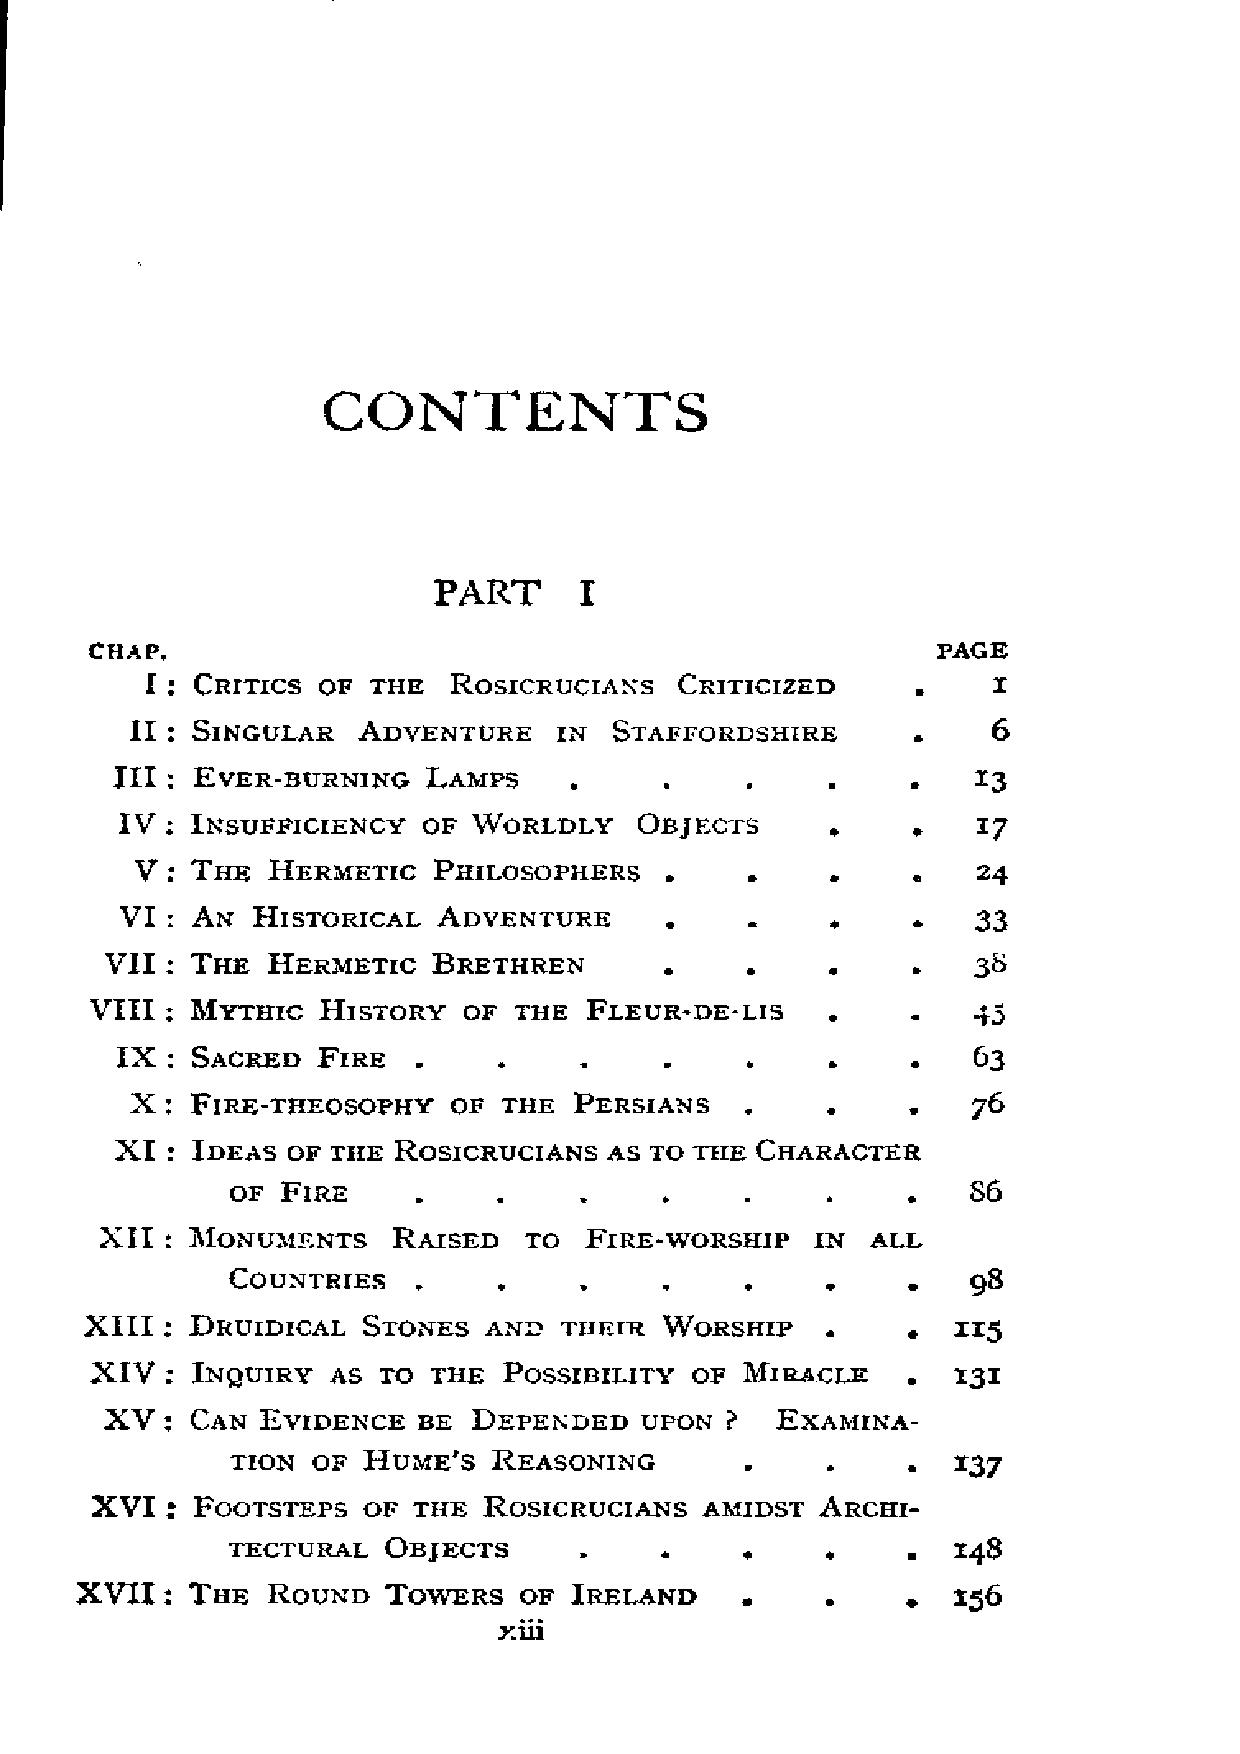TOC_chapter: (91, 1490, 921, 1562), (102, 1404, 921, 1474), (114, 1135, 921, 1202), (97, 1225, 923, 1290), (140, 667, 837, 701), (85, 1359, 871, 1388), (127, 717, 840, 743), (119, 811, 760, 840), (81, 1312, 796, 1338), (74, 1581, 698, 1606), (89, 998, 785, 1021), (130, 858, 641, 884), (117, 900, 613, 927), (127, 1091, 710, 1114), (105, 949, 586, 976), (111, 764, 521, 790), (115, 1044, 388, 1068)
TOC_pagenumber: (951, 1580, 1005, 1613), (953, 1535, 1002, 1563), (951, 1317, 1002, 1342), (951, 1453, 1005, 1478), (972, 1041, 1009, 1075), (951, 1363, 1000, 1389), (966, 1263, 1002, 1295), (972, 949, 1009, 980), (968, 1088, 1004, 1119), (970, 765, 1008, 794), (966, 1176, 1004, 1202), (972, 815, 1009, 840), (974, 906, 1008, 934), (972, 863, 1011, 887), (972, 1000, 1006, 1027), (990, 713, 1012, 742), (986, 671, 1008, 694)
chapter: (321, 386, 710, 433), (428, 574, 597, 608)
